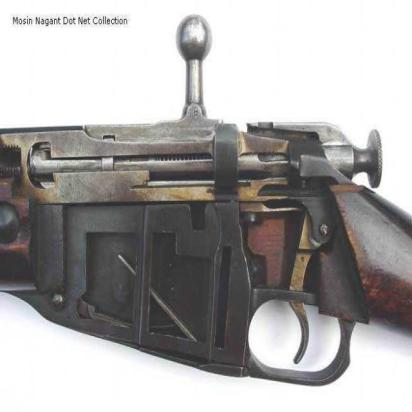Gun: (0, 102, 412, 397)
